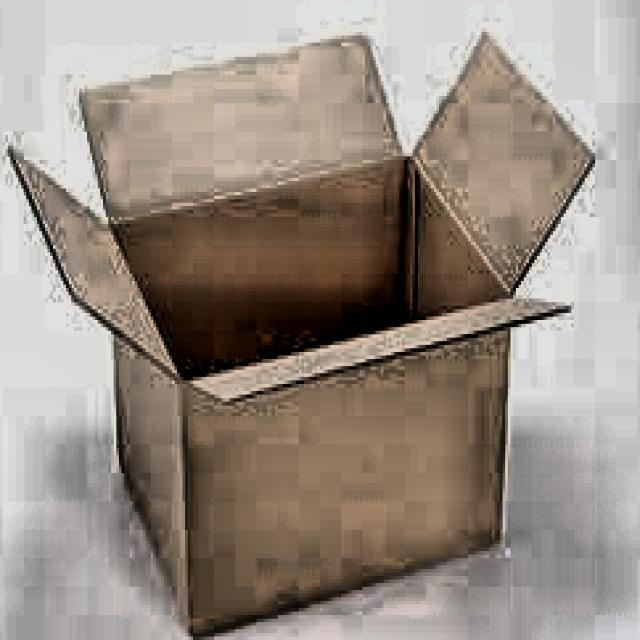cardboard: (5, 24, 592, 636)
